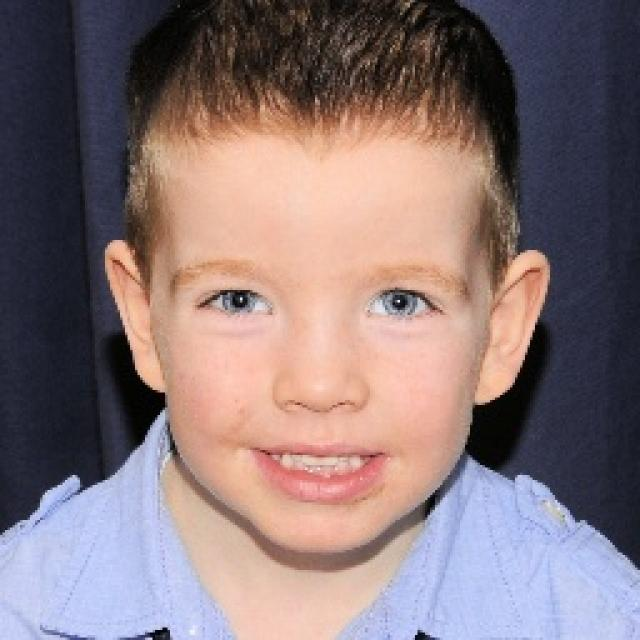earlobe: (471, 248, 550, 406), (105, 240, 171, 396)
